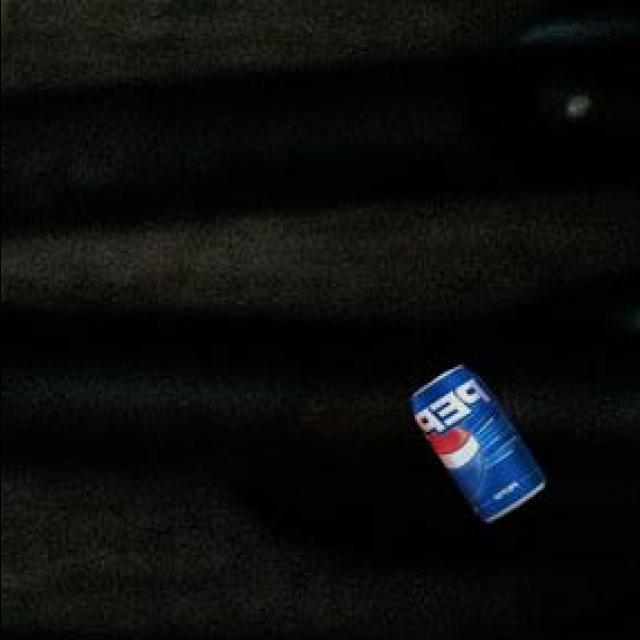logam: (415, 370, 547, 523)
